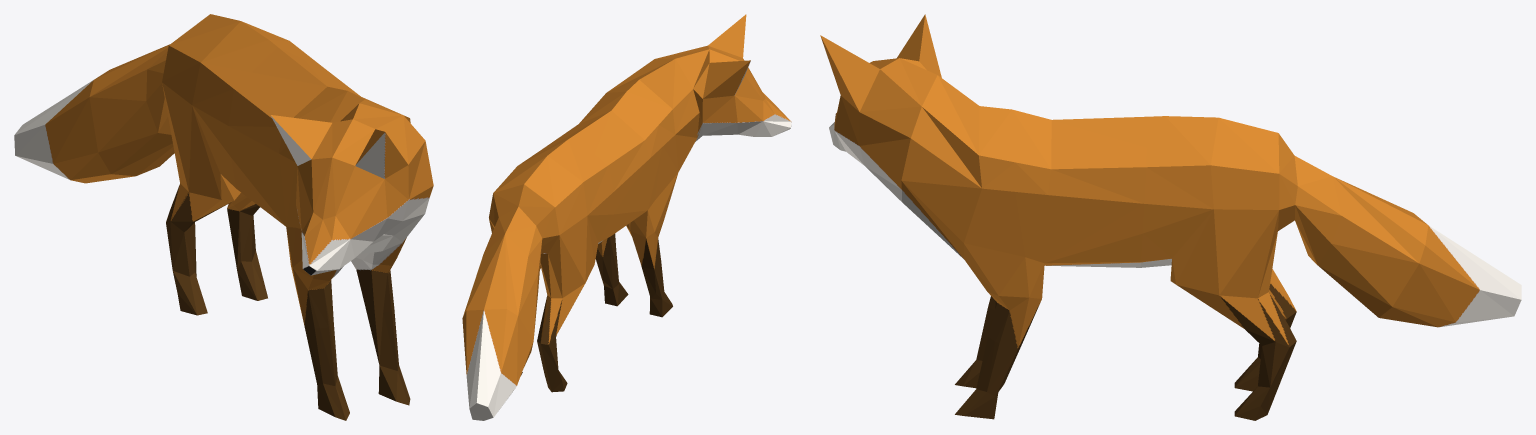
Rendered from fox.glb.
The picture shows the model from 3 angles, left to right: view 1: azimuth 30°, elevation 25°; view 2: azimuth 150°, elevation 25°; view 3: azimuth 270°, elevation 25°; orthographic projection. The views are drawn at different scales.
Parts seen in each view (by area): view 1: fox_vat; view 2: fox_vat; view 3: fox_vat.
Boxes of the visible parts, bbox=[...] form: fox_vat: bbox=[14, 14, 433, 420]; fox_vat: bbox=[462, 14, 791, 420]; fox_vat: bbox=[820, 14, 1521, 420].
Size of the model in its own units: 41.5 by 74.77 by 141.
1 material, 1 textured.
